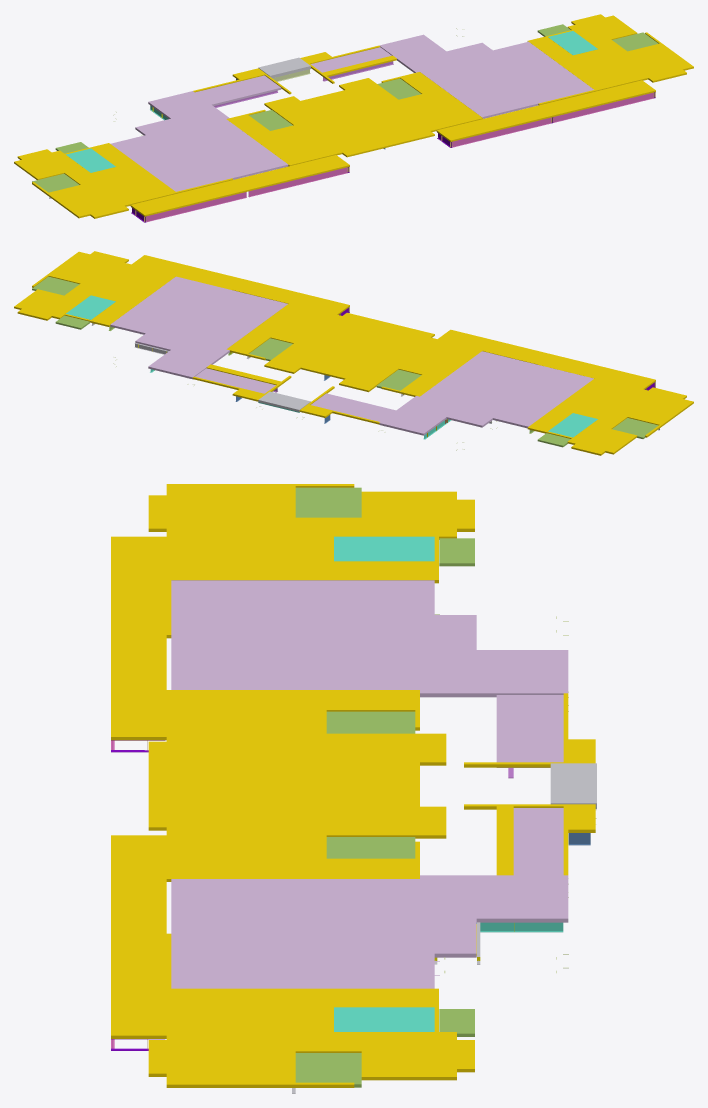
3 renders of one model, top to bottom at view 1: azimuth 30°, elevation 25°; view 2: azimuth 150°, elevation 25°; view 3: azimuth 270°, elevation 25°, orthographic. The views are drawn at different scales.
Parts seen in each view (by area): view 1: SLAB[1WbTrB009XQZ4sCZ0qD3Ks], SLAB[1WbTrB009XJZ4sCZ0qD3Ks], SLAB[1WbTrB009XRZ4sCZ0qD3Ks], SLAB[1WbTrB009XMZ4sCZ0qD3Ks], SLAB[1WbTrB009XSZ4sCZ0qD3Ks], SLAB[1WbTrB009XLZ4sCZ0qD3Ks], SLAB[1WbTrB009XKZ4sCZ0qD3Ks], SLAB[1WbTrB009XEZ4sCZ0qD3Ks], SLAB[1WbTrB009XAZ4sCZ0qD3Ks], SLAB[1WbTrB009XFZ4sCZ0qD3Ks], 18-7GL[1WbTrB009WWZ4sCZ0qD3Ks], 18-7GL[1WbTrB009WTZ4sCZ0qD3Ks] (+10 smaller); view 2: SLAB[1WbTrB009XQZ4sCZ0qD3Ks], SLAB[1WbTrB009XJZ4sCZ0qD3Ks], SLAB[1WbTrB009XRZ4sCZ0qD3Ks], SLAB[1WbTrB009XMZ4sCZ0qD3Ks], SLAB[1WbTrB009XSZ4sCZ0qD3Ks], SLAB[1WbTrB009XLZ4sCZ0qD3Ks], SLAB[1WbTrB009XKZ4sCZ0qD3Ks], SLAB[1WbTrB009XEZ4sCZ0qD3Ks], SLAB[1WbTrB009XAZ4sCZ0qD3Ks], SLAB[1WbTrB009XFZ4sCZ0qD3Ks], CUTPART[1WbTrB009XNp4sCZ0qD3Ks], CUTPART[1WbTrB009XTp4sCZ0qD3Ks] (+6 smaller); view 3: SLAB[1WbTrB009XQZ4sCZ0qD3Ks], SLAB[1WbTrB009XRZ4sCZ0qD3Ks], SLAB[1WbTrB009XJZ4sCZ0qD3Ks], SLAB[1WbTrB009XSZ4sCZ0qD3Ks], SLAB[1WbTrB009XMZ4sCZ0qD3Ks], SLAB[1WbTrB009XKZ4sCZ0qD3Ks], SLAB[1WbTrB009XLZ4sCZ0qD3Ks], SLAB[1WbTrB009XEZ4sCZ0qD3Ks], SLAB[1WbTrB009XFZ4sCZ0qD3Ks], SLAB[1WbTrB009XAZ4sCZ0qD3Ks], CUTPART[1WbTrB009XNp4sCZ0qD3Ks], CUTPART[1WbTrB009XTp4sCZ0qD3Ks] (+9 smaller).
Boxes of the visible parts, left/top/right/bottom form: SLAB[1WbTrB009XQZ4sCZ0qD3Ks]: left=226, top=72, right=483, bottom=166; SLAB[1WbTrB009XJZ4sCZ0qD3Ks]: left=110, top=91, right=288, bottom=191; SLAB[1WbTrB009XRZ4sCZ0qD3Ks]: left=379, top=34, right=593, bottom=118; SLAB[1WbTrB009XMZ4sCZ0qD3Ks]: left=14, top=143, right=233, bottom=218; SLAB[1WbTrB009XSZ4sCZ0qD3Ks]: left=527, top=14, right=693, bottom=105; SLAB[1WbTrB009XLZ4sCZ0qD3Ks]: left=436, top=80, right=655, bottom=141; SLAB[1WbTrB009XKZ4sCZ0qD3Ks]: left=130, top=155, right=349, bottom=216; SLAB[1WbTrB009XEZ4sCZ0qD3Ks]: left=195, top=75, right=281, bottom=105; SLAB[1WbTrB009XAZ4sCZ0qD3Ks]: left=193, top=45, right=380, bottom=94; SLAB[1WbTrB009XFZ4sCZ0qD3Ks]: left=311, top=47, right=391, bottom=72; 18-7GL[1WbTrB009WWZ4sCZ0qD3Ks]: left=553, top=92, right=653, bottom=122; 18-7GL[1WbTrB009WTZ4sCZ0qD3Ks]: left=146, top=192, right=246, bottom=221; SLAB[1WbTrB009XQZ4sCZ0qD3Ks]: left=226, top=303, right=483, bottom=396; SLAB[1WbTrB009XJZ4sCZ0qD3Ks]: left=379, top=351, right=593, bottom=435; SLAB[1WbTrB009XRZ4sCZ0qD3Ks]: left=110, top=276, right=287, bottom=379; SLAB[1WbTrB009XMZ4sCZ0qD3Ks]: left=527, top=364, right=693, bottom=455; SLAB[1WbTrB009XSZ4sCZ0qD3Ks]: left=14, top=251, right=233, bottom=326; SLAB[1WbTrB009XLZ4sCZ0qD3Ks]: left=132, top=255, right=349, bottom=314; SLAB[1WbTrB009XKZ4sCZ0qD3Ks]: left=438, top=329, right=655, bottom=389; SLAB[1WbTrB009XEZ4sCZ0qD3Ks]: left=311, top=393, right=395, bottom=421; SLAB[1WbTrB009XAZ4sCZ0qD3Ks]: left=192, top=375, right=379, bottom=424; SLAB[1WbTrB009XFZ4sCZ0qD3Ks]: left=195, top=368, right=275, bottom=393; CUTPART[1WbTrB009XNp4sCZ0qD3Ks]: left=548, top=413, right=597, bottom=437; CUTPART[1WbTrB009XTp4sCZ0qD3Ks]: left=66, top=295, right=115, bottom=319; SLAB[1WbTrB009XQZ4sCZ0qD3Ks]: left=148, top=690, right=446, bottom=881; SLAB[1WbTrB009XRZ4sCZ0qD3Ks]: left=171, top=875, right=568, bottom=988; SLAB[1WbTrB009XJZ4sCZ0qD3Ks]: left=171, top=580, right=568, bottom=697; SLAB[1WbTrB009XSZ4sCZ0qD3Ks]: left=148, top=933, right=474, bottom=1087; SLAB[1WbTrB009XMZ4sCZ0qD3Ks]: left=148, top=484, right=474, bottom=638; SLAB[1WbTrB009XKZ4sCZ0qD3Ks]: left=111, top=536, right=166, bottom=740; SLAB[1WbTrB009XLZ4sCZ0qD3Ks]: left=111, top=835, right=166, bottom=1038; SLAB[1WbTrB009XEZ4sCZ0qD3Ks]: left=496, top=695, right=563, bottom=767; SLAB[1WbTrB009XFZ4sCZ0qD3Ks]: left=513, top=808, right=563, bottom=875; SLAB[1WbTrB009XAZ4sCZ0qD3Ks]: left=464, top=693, right=595, bottom=875; CUTPART[1WbTrB009XNp4sCZ0qD3Ks]: left=334, top=536, right=434, bottom=561; CUTPART[1WbTrB009XTp4sCZ0qD3Ks]: left=334, top=1007, right=434, bottom=1031.
Bounding box in the file's own units: 39.6 × 0.5646 × 13.55.
